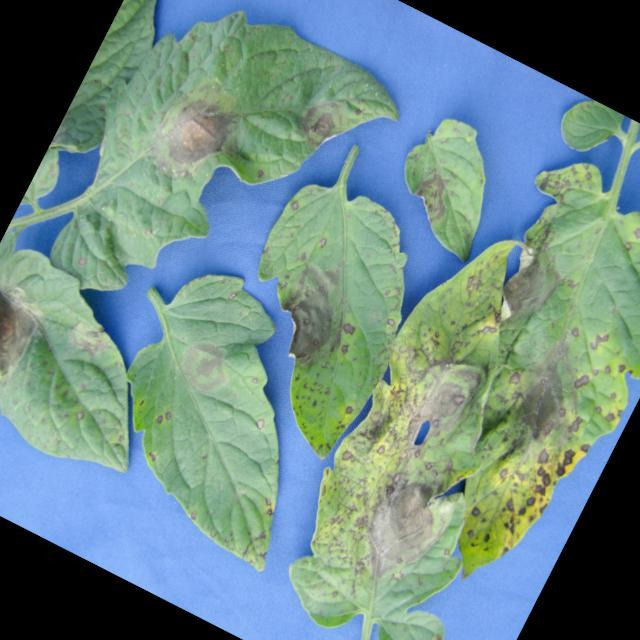Tomato late blight leaf: (247, 208, 619, 640), (21, 0, 430, 373), (344, 135, 640, 610), (69, 260, 374, 578), (184, 160, 452, 466), (0, 234, 202, 487), (371, 102, 520, 263)
